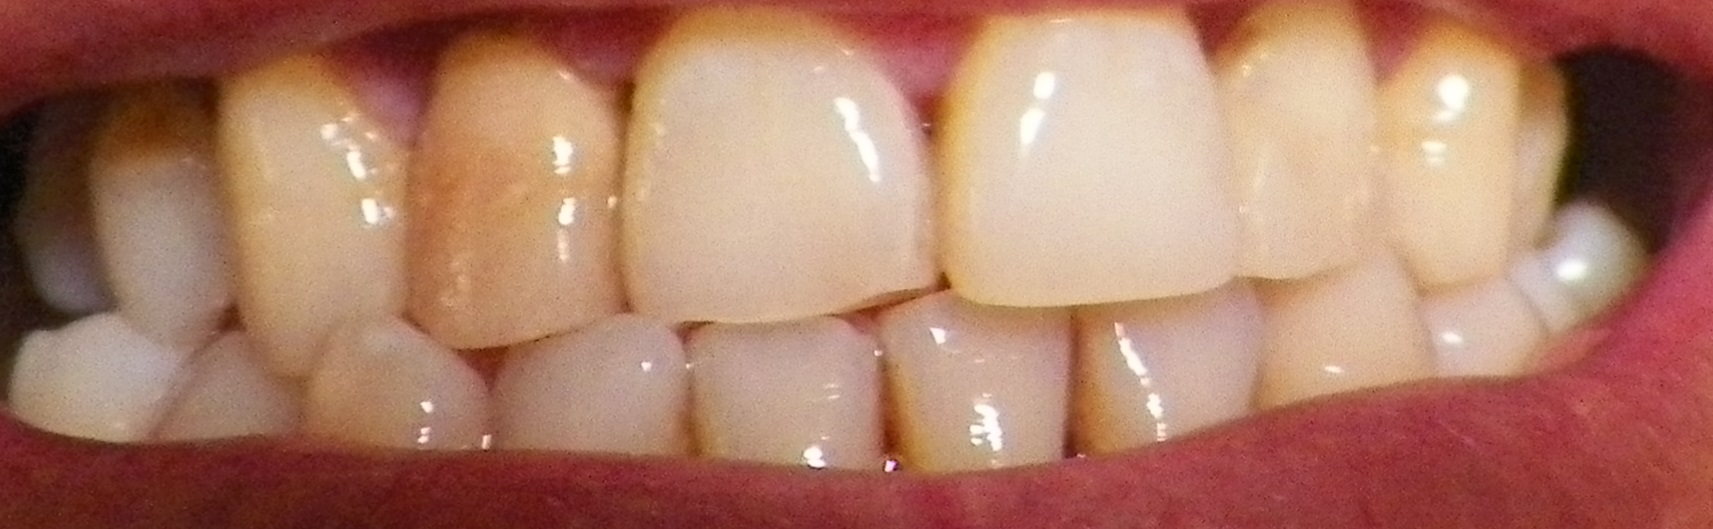boca: (14, 24, 1643, 446)
